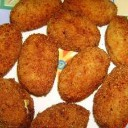cutlet: (20, 32, 59, 94), (64, 48, 108, 101), (97, 59, 128, 125), (51, 13, 101, 49), (32, 101, 92, 128), (11, 1, 59, 30), (1, 77, 29, 126), (1, 22, 22, 76), (108, 16, 128, 62)
